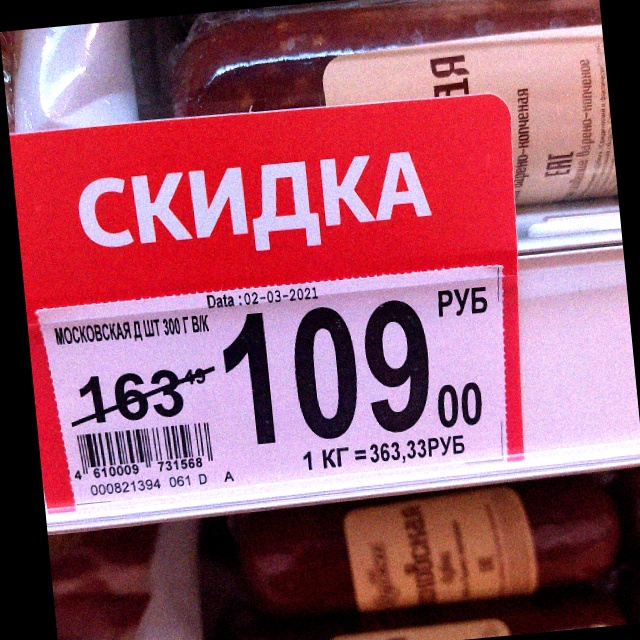barcode: (66, 418, 219, 485)
name: (52, 310, 218, 347)
price: (213, 300, 482, 444)
price_tag: (41, 264, 504, 512)
